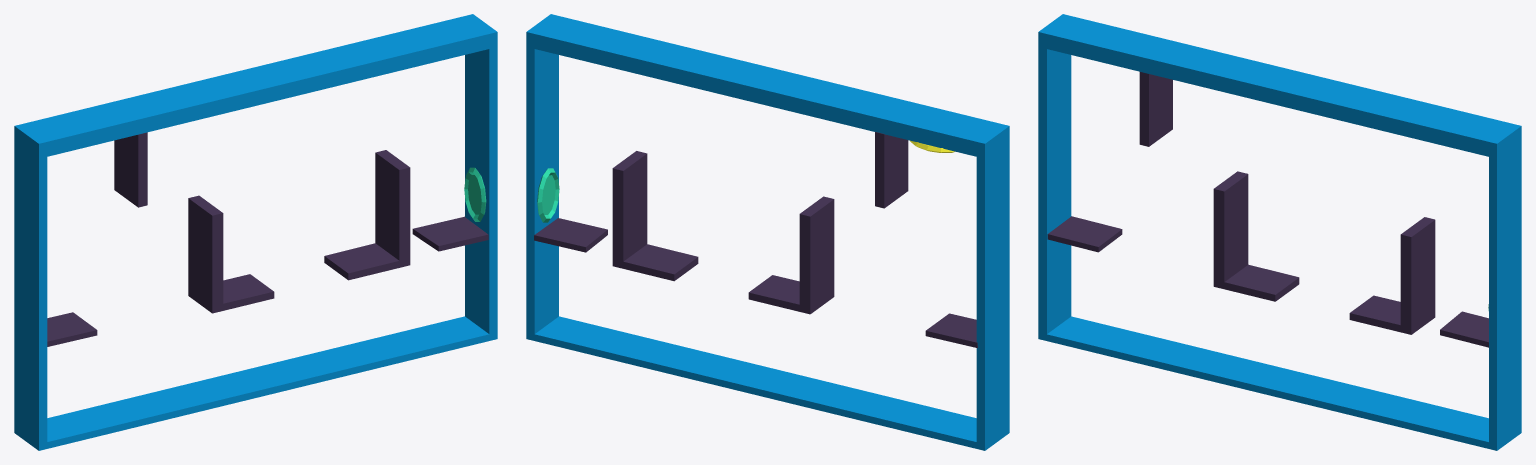
The model's file is sala B-fase1.glb.
3 renders of one model, left to right at view 1: azimuth 30°, elevation 25°; view 2: azimuth 150°, elevation 25°; view 3: azimuth 330°, elevation 25°, orthographic.
Parts seen in each view (by area): view 1: MeshB-col, plataforma.009-col, plataforma.011-col, plataforma-col, plataforma.010-col, portalVerde.001-col; view 2: MeshB-col, plataforma.009-col, plataforma.011-col, plataforma-col, plataforma.010-col, portalVerde.001-col; view 3: MeshB-col, plataforma.009-col, plataforma.011-col, plataforma.010-col, plataforma-col.
Boxes of the visible parts, <box> form: MeshB-col: <box>14,14,497,450</box>; plataforma.009-col: <box>188,150,410,313</box>; plataforma.011-col: <box>114,132,147,207</box>; plataforma-col: <box>412,216,488,251</box>; plataforma.010-col: <box>47,312,97,346</box>; portalVerde.001-col: <box>464,167,486,221</box>; MeshB-col: <box>526,14,1009,450</box>; plataforma.009-col: <box>612,151,834,314</box>; plataforma.011-col: <box>875,132,908,208</box>; plataforma-col: <box>534,218,607,252</box>; plataforma.010-col: <box>925,313,977,347</box>; portalVerde.001-col: <box>537,168,559,222</box>; MeshB-col: <box>1038,14,1521,450</box>; plataforma.009-col: <box>1213,171,1435,334</box>; plataforma.011-col: <box>1139,72,1172,146</box>; plataforma.010-col: <box>1047,216,1122,252</box>; plataforma-col: <box>1440,311,1488,347</box>.
Size of the model in its own units: 134 by 85.46 by 14.06.
